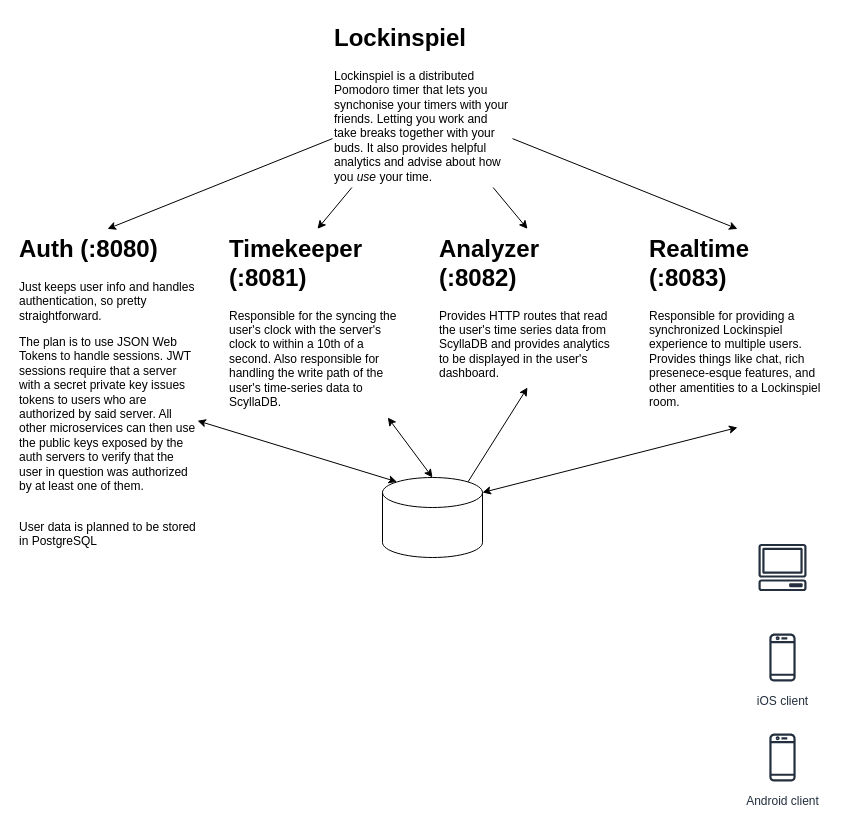
This 844x825 diagram has some shape labels left out. Each missing label, with the centre of its shape:
"Desktop client" goes at point 782,567.
"PostgreSQL (Timescale DB)" goes at point 432,517.
